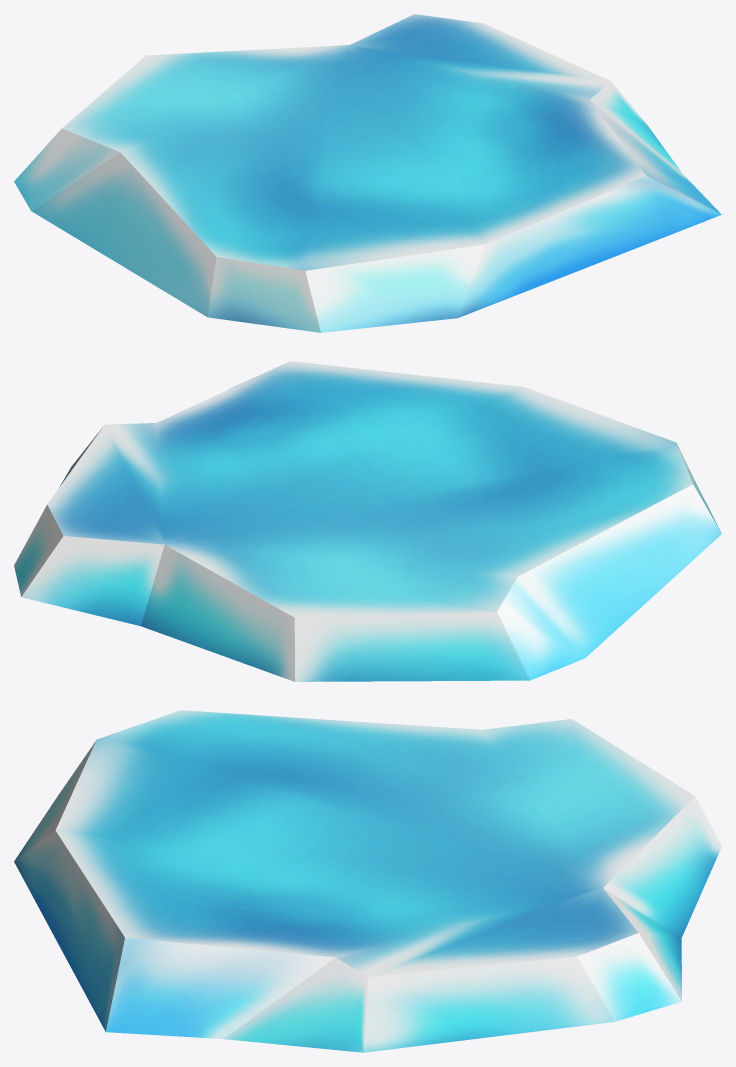
File: Ice03.fbx
The picture shows the model from 3 angles, top to bottom: view 1: azimuth 30°, elevation 25°; view 2: azimuth 150°, elevation 25°; view 3: azimuth 270°, elevation 25°; orthographic projection. The views are drawn at different scales.
Visible parts, largest first — view 1: Circle.004; view 2: Circle.004; view 3: Circle.004.
Part boxes in pixels (x1,y1,x2,y2): Circle.004: (14,14,721,332); Circle.004: (14,361,721,681); Circle.004: (14,710,721,1052).
Bounding box in the file's own units: 113 × 9.71 × 110.
